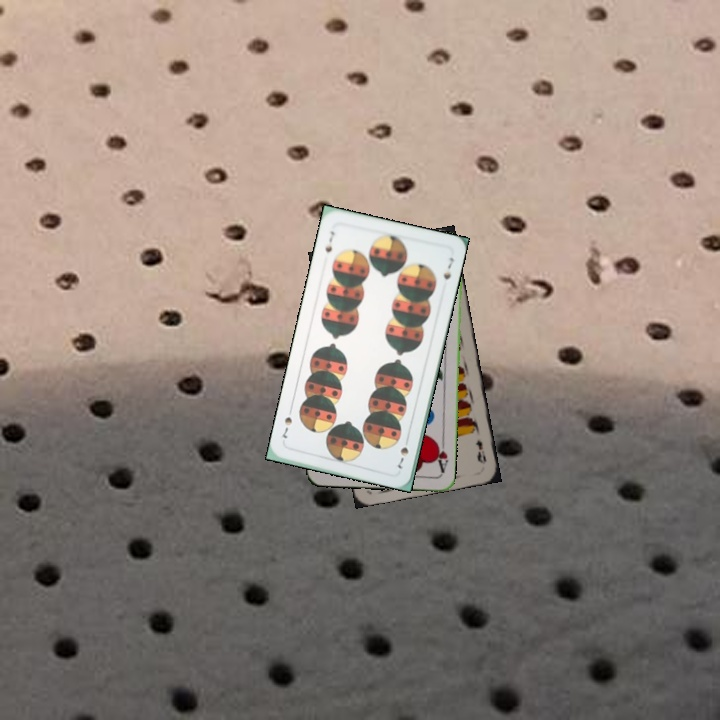E9: (472, 436, 489, 467)
HA: (431, 435, 450, 475)
S7: (393, 433, 411, 471), (321, 227, 337, 255)
